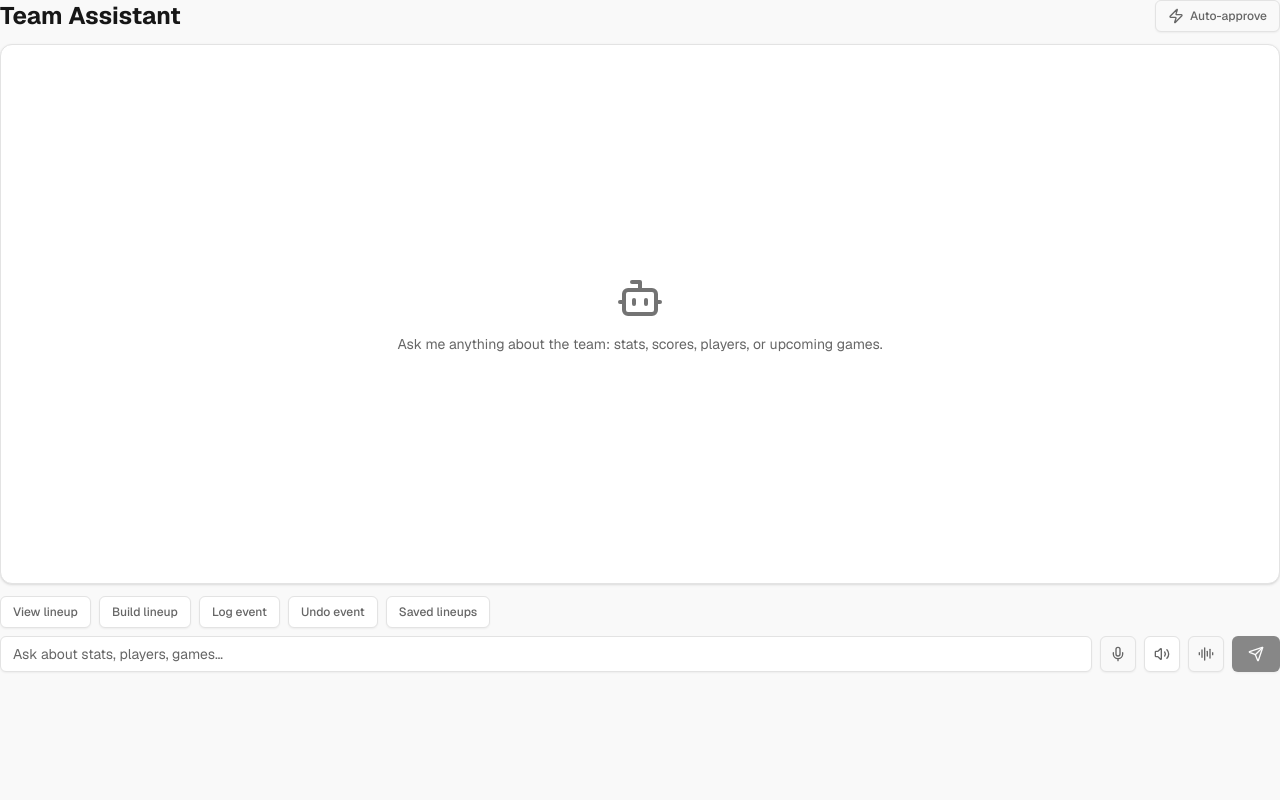
Scenario: Chat action receipts › keeps message-attached receipts undoable after clearing history
Expected: the text "Ask me anything about the team" is shown, top-left (397, 335), bottom-right (883, 353)
Type "add a goal" into the field with placeholder "Ask about stats, players, games…" at (546, 654), box top-left (0, 636), bottom-right (1092, 672)
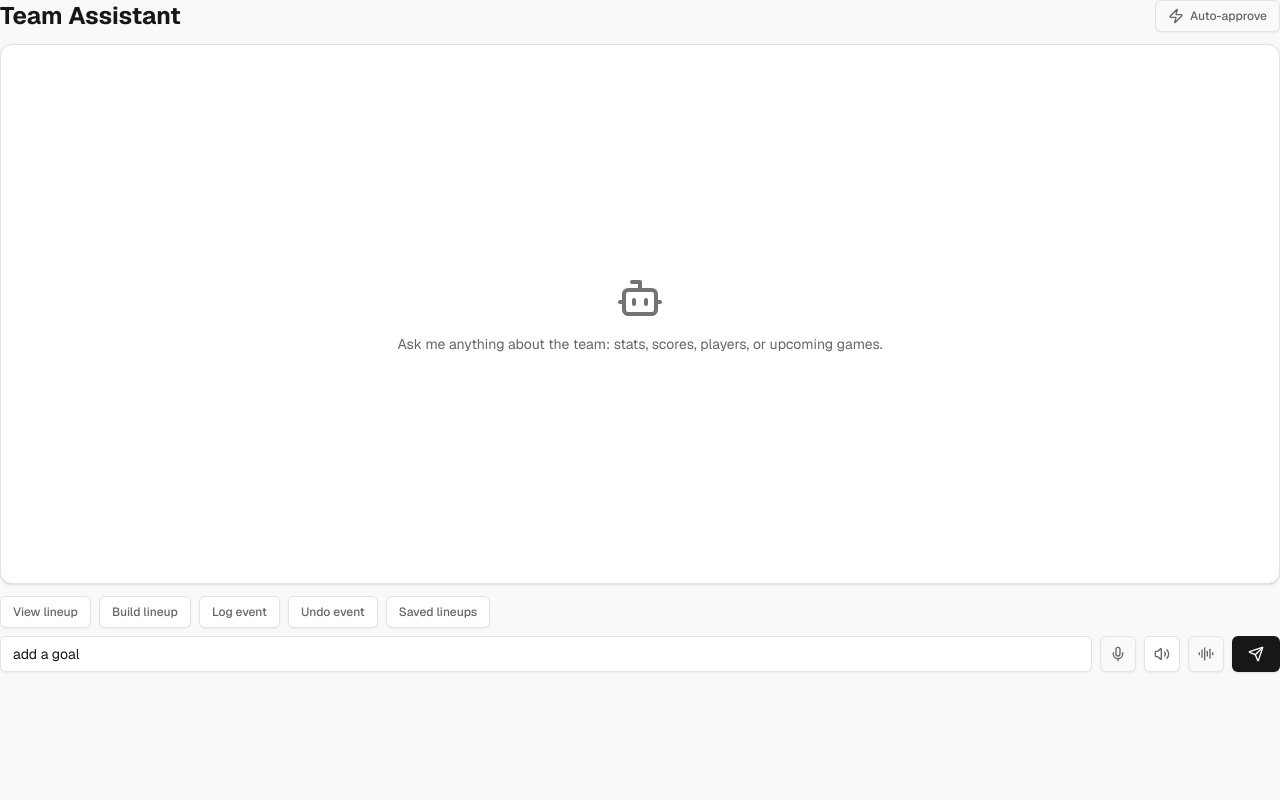
Press Enter in the field with placeholder "Ask about stats, players, games…", box top-left (0, 636), bottom-right (1092, 672)
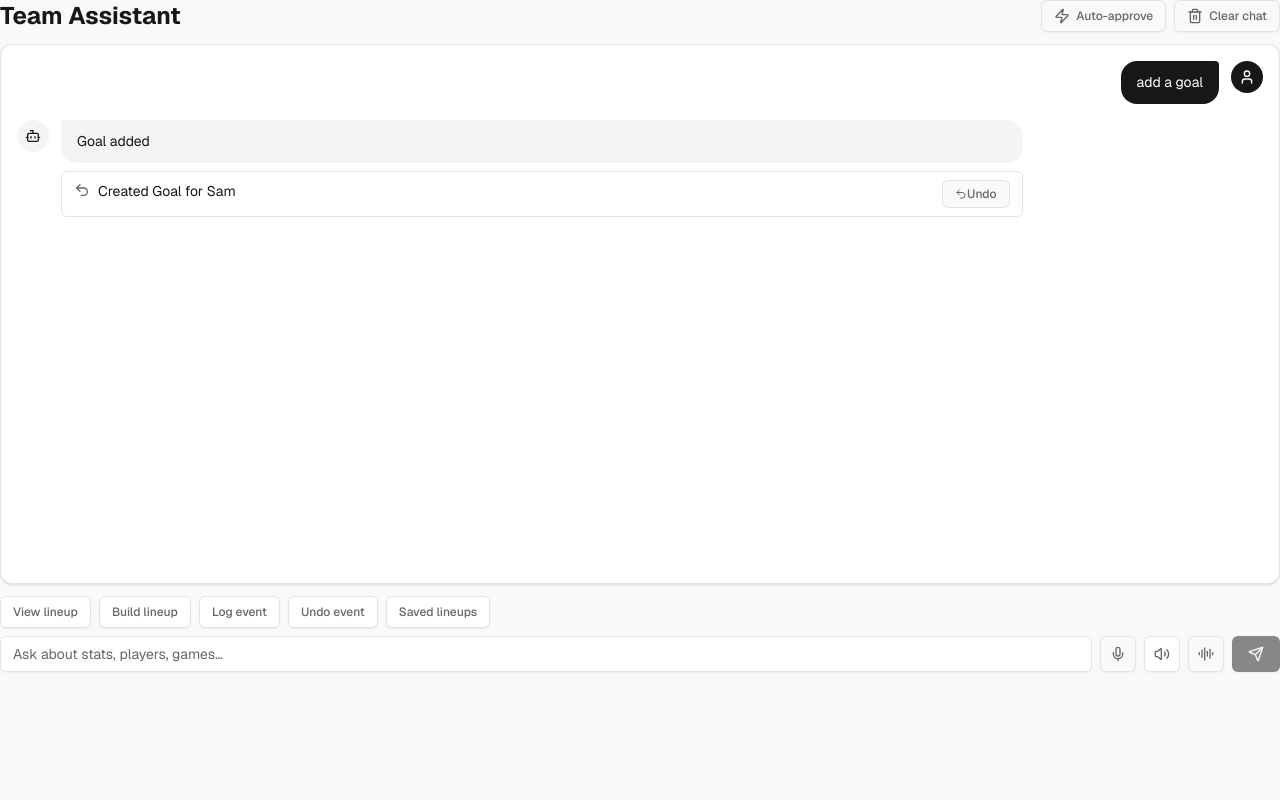
Now the text "Created Goal for Sam" is shown, box top-left (98, 182), bottom-right (236, 200)
Click the button "Clear chat" at (1227, 16), box top-left (1174, 0), bottom-right (1279, 32)
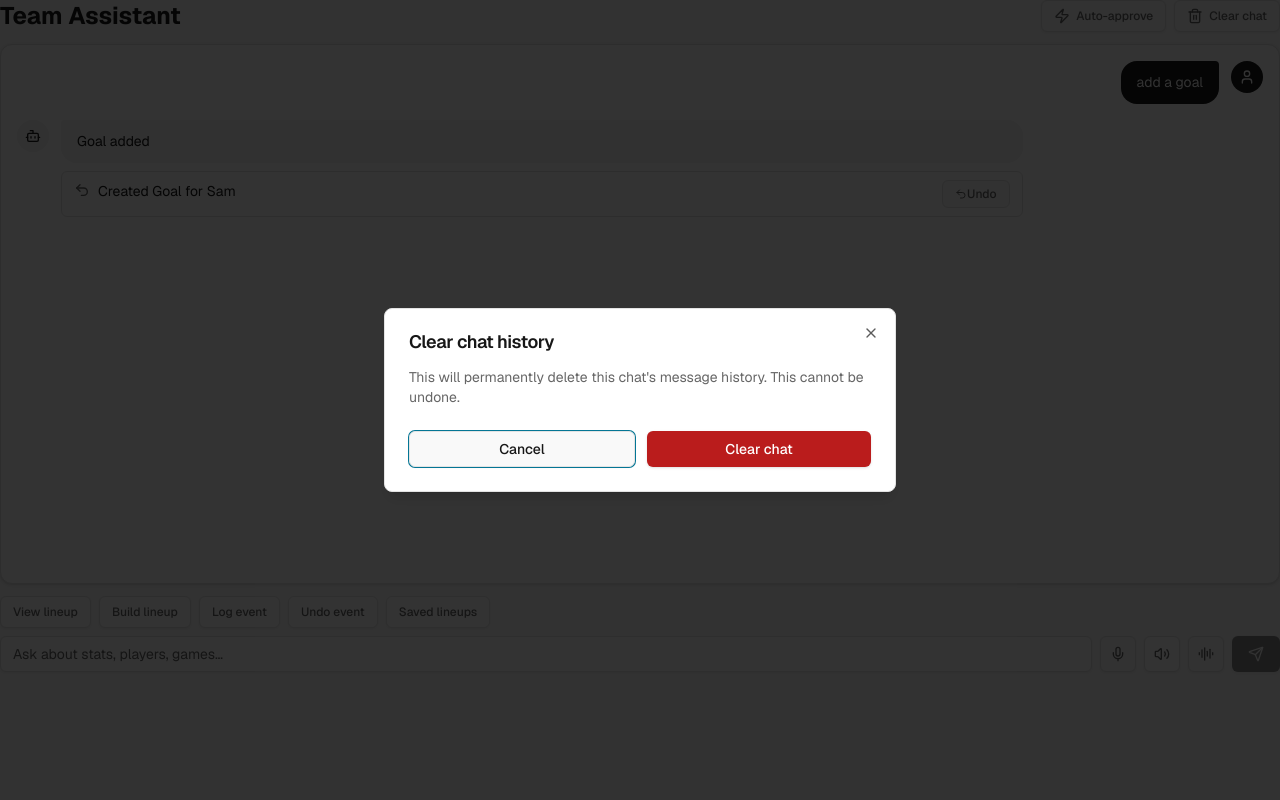
Now the heading "Clear chat history" is shown, box top-left (409, 330), bottom-right (554, 353)
Click the button "Clear chat" at (759, 449), box top-left (647, 431), bottom-right (871, 467)
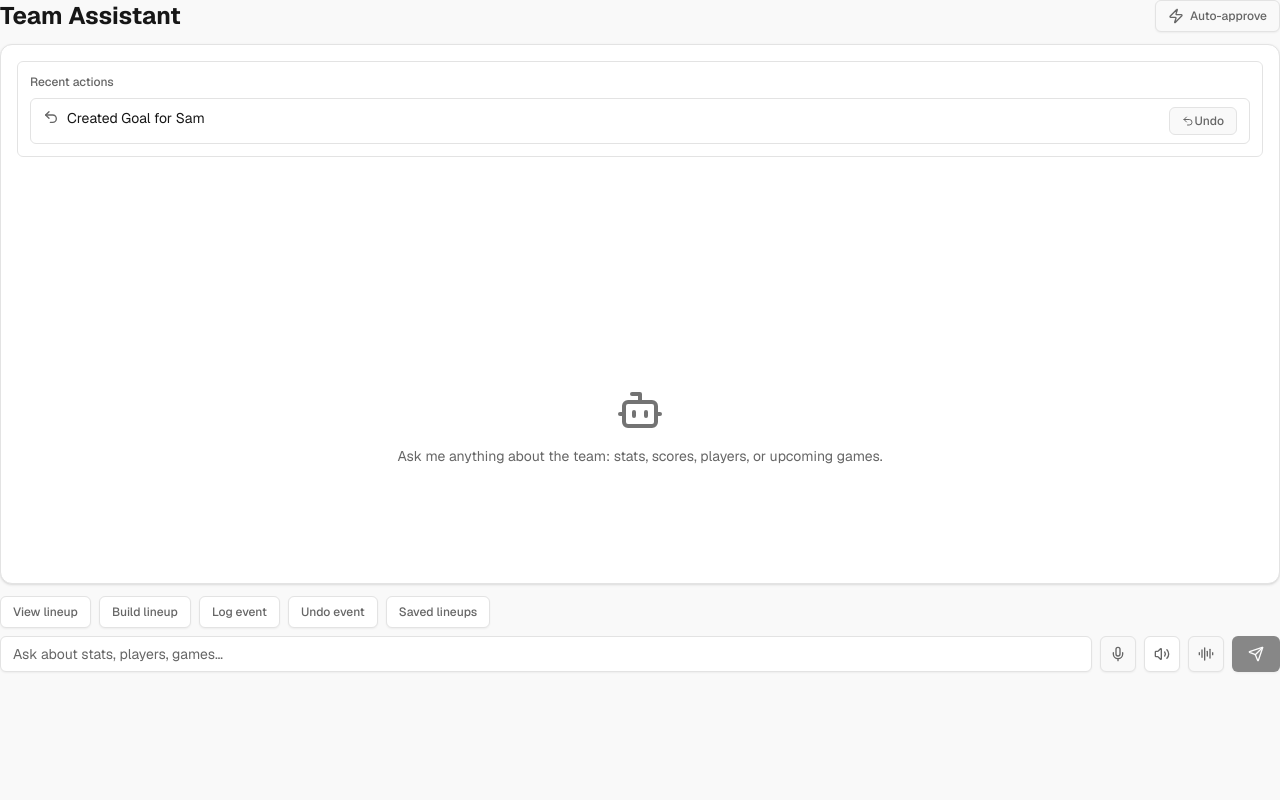
Now the text "Created Goal for Sam" is shown, box top-left (67, 109), bottom-right (205, 127)
Now the text "Recent actions" is shown, box top-left (30, 74), bottom-right (114, 90)
Click the button "Undo" at (1203, 121), box top-left (1170, 107), bottom-right (1237, 135)
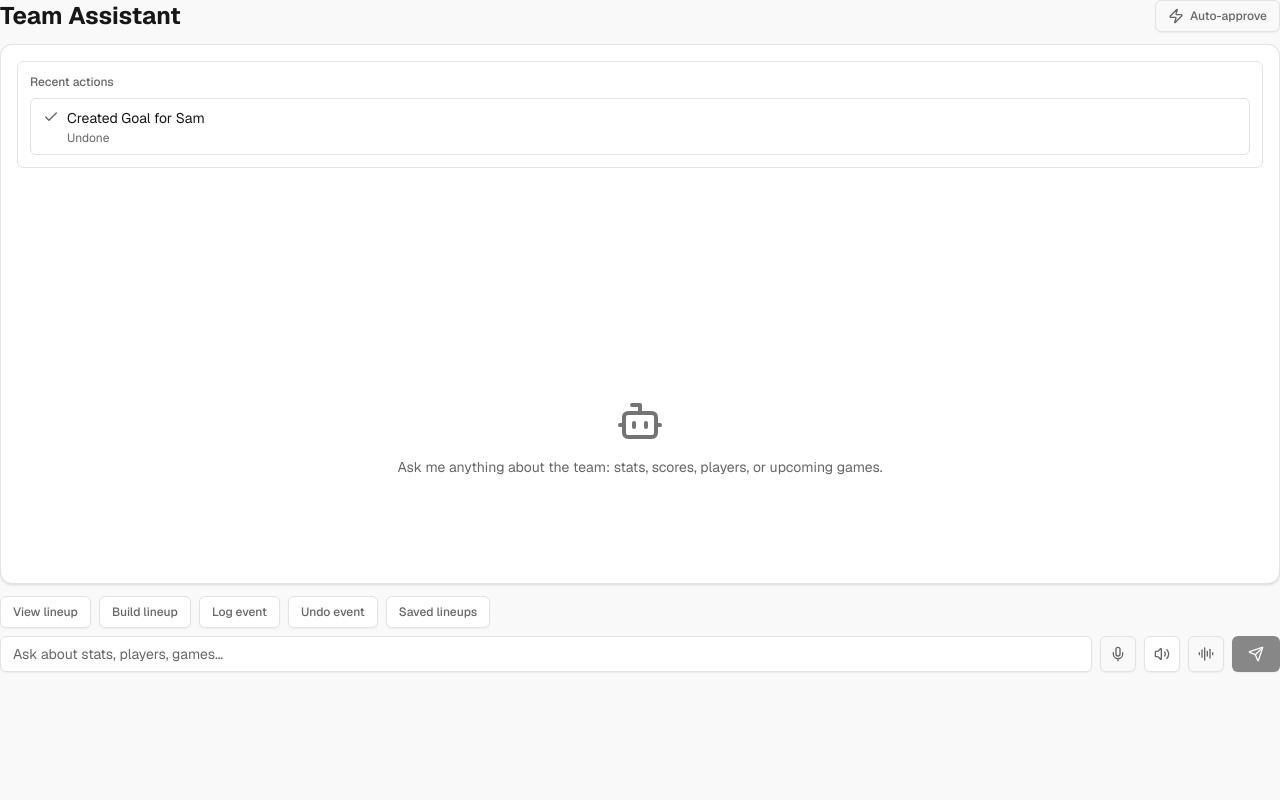
Now the text "Undone" is shown, box top-left (67, 130), bottom-right (109, 146)
